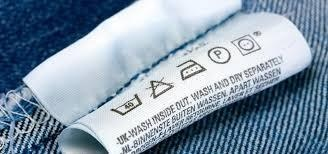40C: (115, 94, 142, 117)
DN_bleach: (149, 77, 174, 99)
dry_clean_any_solvent_except_trichloroethylene: (208, 46, 231, 66)
iron_high: (177, 58, 206, 80)
tumble_dry_medium: (233, 34, 263, 57)
